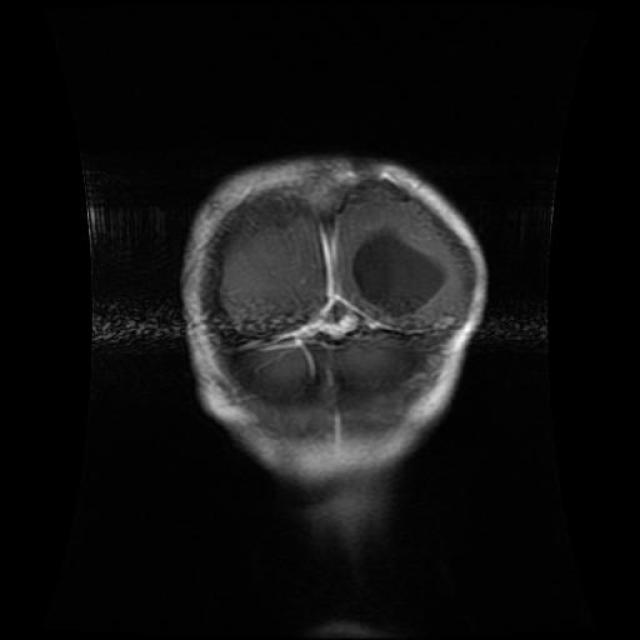glioma: (352, 230, 448, 318)
